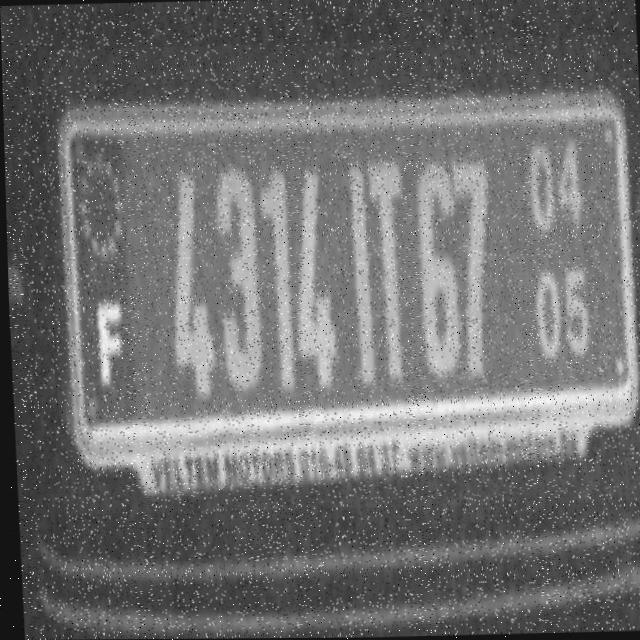LicensePlate: (41, 35, 640, 514)
